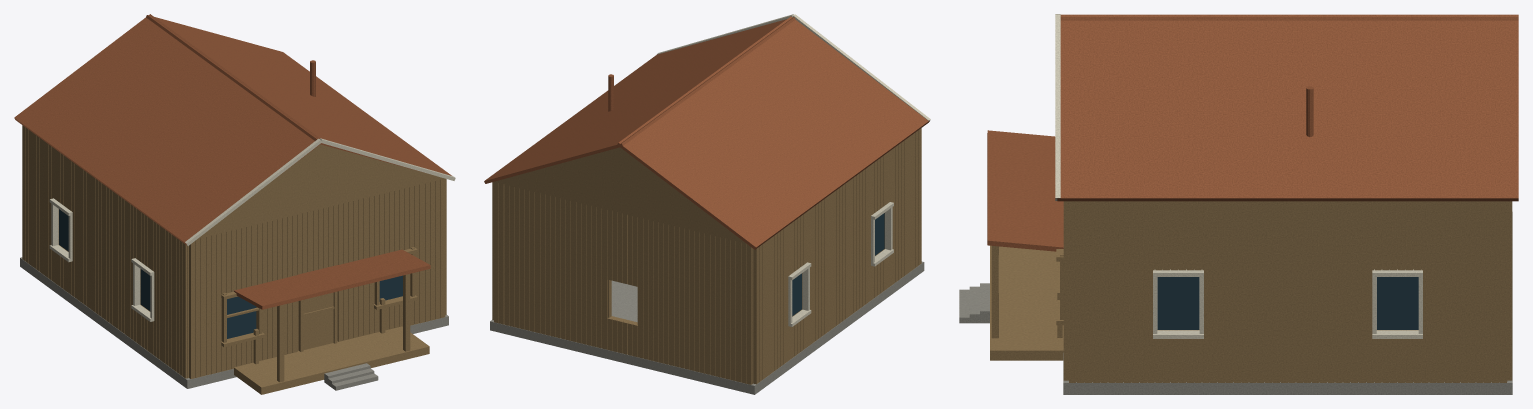
File: RUSTICA2_lod2.glb
The picture shows the model from 3 angles, left to right: view 1: azimuth 30°, elevation 25°; view 2: azimuth 150°, elevation 25°; view 3: azimuth 270°, elevation 25°; orthographic projection. The views are drawn at different scales.
Parts seen in each view (by area): view 1: RUSTICA2_LOD2; view 2: RUSTICA2_LOD2; view 3: RUSTICA2_LOD2.
Part boxes in pixels (<box>): RUSTICA2_LOD2: <box>14,14,455,394</box>; RUSTICA2_LOD2: <box>484,14,930,394</box>; RUSTICA2_LOD2: <box>959,14,1518,394</box>.
Bounding box in the file's own units: 9.51 × 7.42 × 12.76.
Materials: 8 (6 with a texture image).
